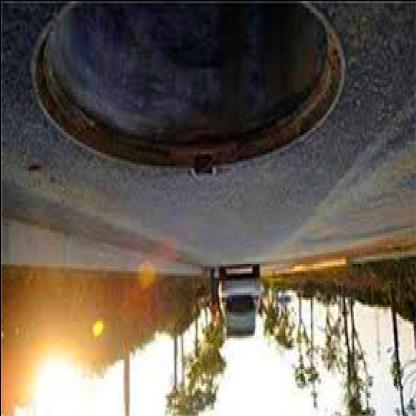manholes: (20, 0, 363, 208)
